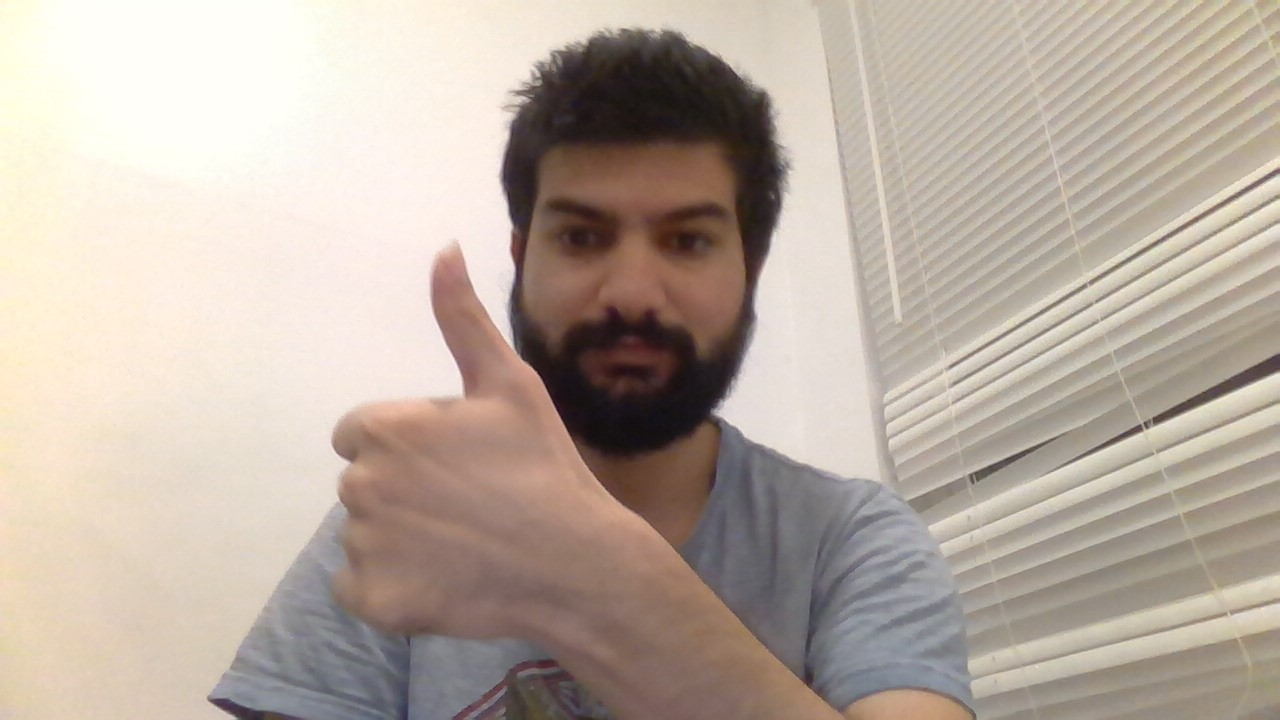up: (306, 235, 574, 638)
